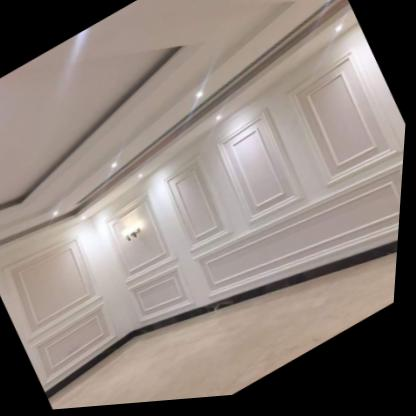Futec frame: (103, 43, 407, 289), (0, 225, 143, 399), (159, 105, 318, 261), (280, 55, 407, 198)
